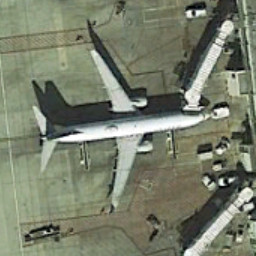Airplane: (21, 45, 216, 220)
